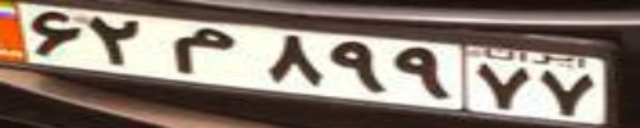2: (86, 16, 137, 64)
6: (29, 11, 79, 58)
7: (536, 69, 593, 116), (473, 63, 528, 109)
8: (263, 34, 321, 85)
9: (392, 46, 446, 100), (327, 40, 381, 93)
mim: (170, 27, 235, 73)
